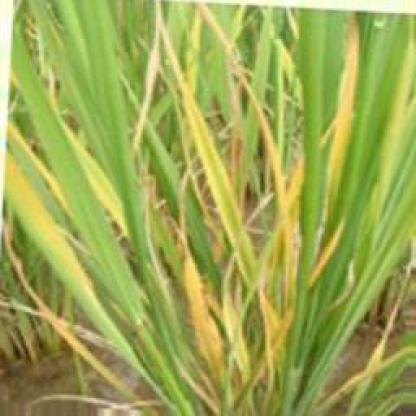Tungro: (3, 155, 171, 349), (217, 5, 308, 286), (157, 37, 247, 261), (160, 244, 271, 414), (52, 112, 130, 242), (319, 14, 370, 193), (307, 227, 354, 292)
